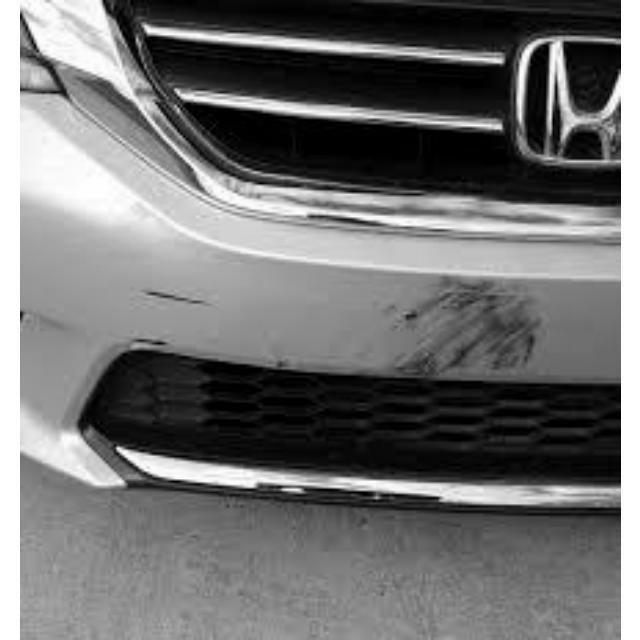front-bumper-dent: (20, 177, 615, 527), (19, 155, 341, 524)
